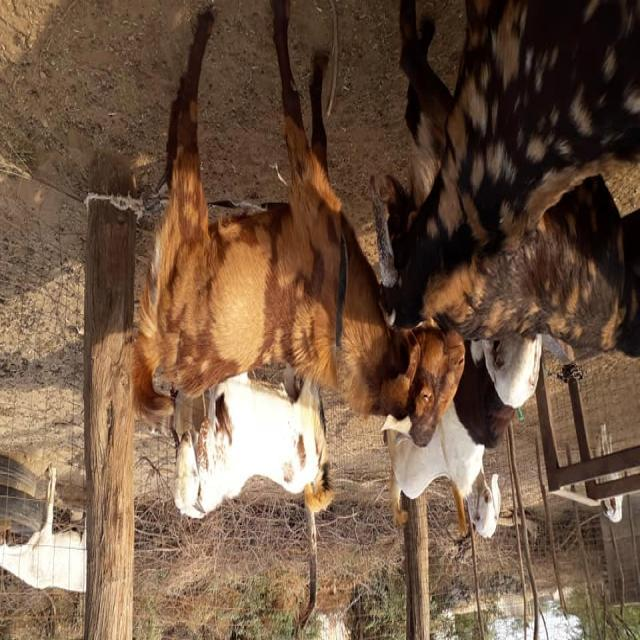Goat: (130, 3, 465, 452), (370, 3, 639, 335), (171, 366, 335, 522), (0, 465, 87, 595), (596, 424, 623, 525)
